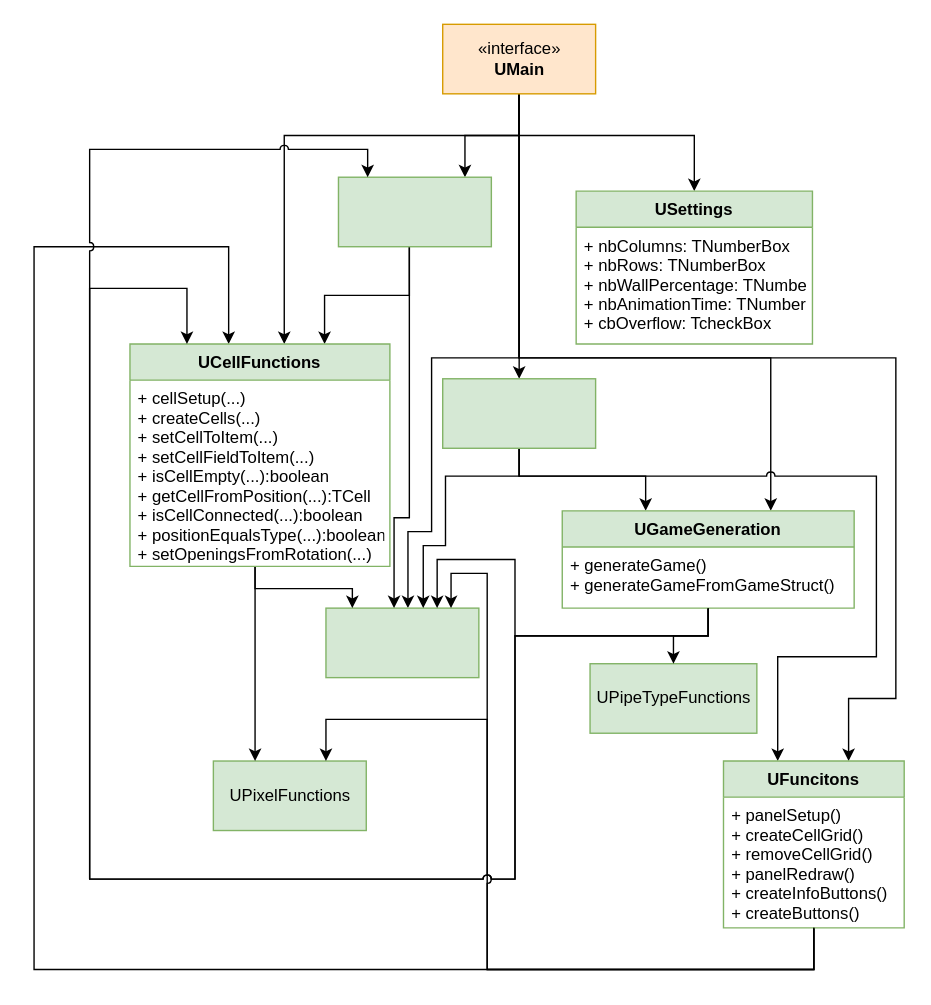
Some shapes in this 931 by 1005 pixel diagram are drawn without their labels. Here are the shapes that lost their labels. From the top down, the centre of each, then its label:
point 414,211: UFluid
point 518,412: UFileHandler
point 402,642: UPositionFunctions
